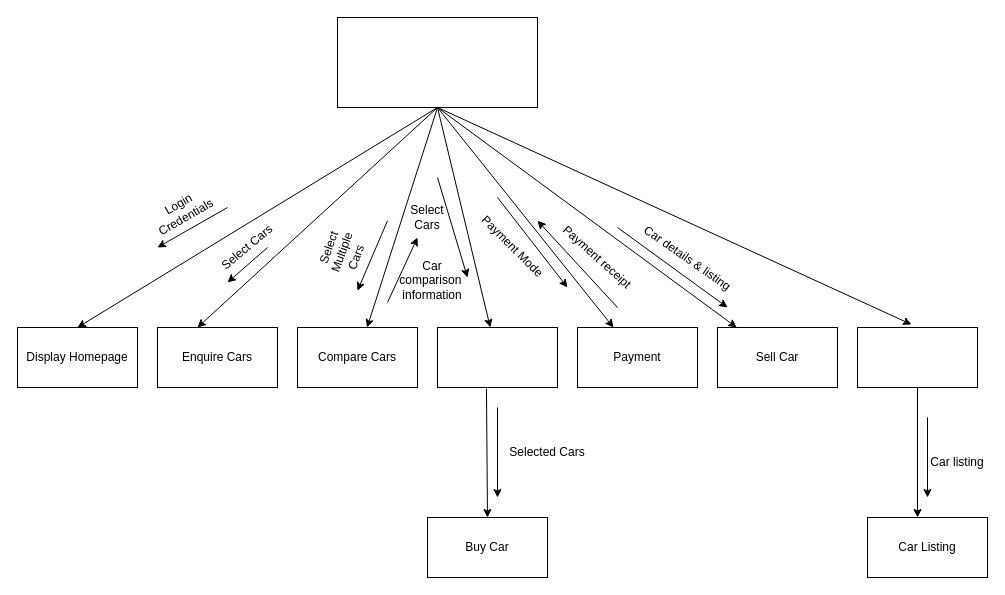
The diagram is 1005 pixels wide and 595 high, and some of its shapes have lost their labels. Each missing label, with the centre of its shape:
"Admin Controls" belongs at point (917, 357).
"Car Booking" belongs at point (497, 357).
"Car Sales Ecommerce Site" belongs at point (437, 62).
